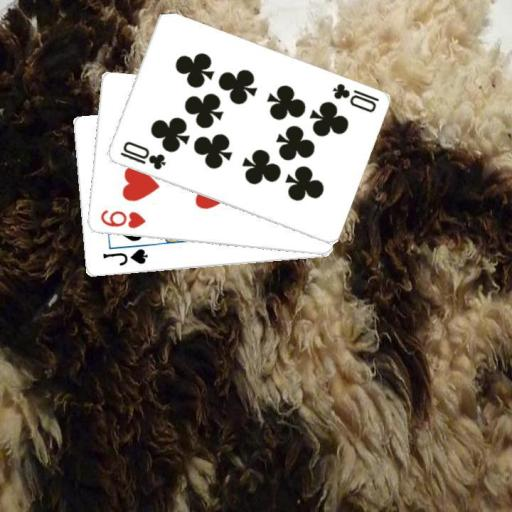10C: (329, 81, 381, 115), (117, 138, 167, 171)
6H: (97, 207, 147, 230)
JS: (100, 246, 150, 268)
